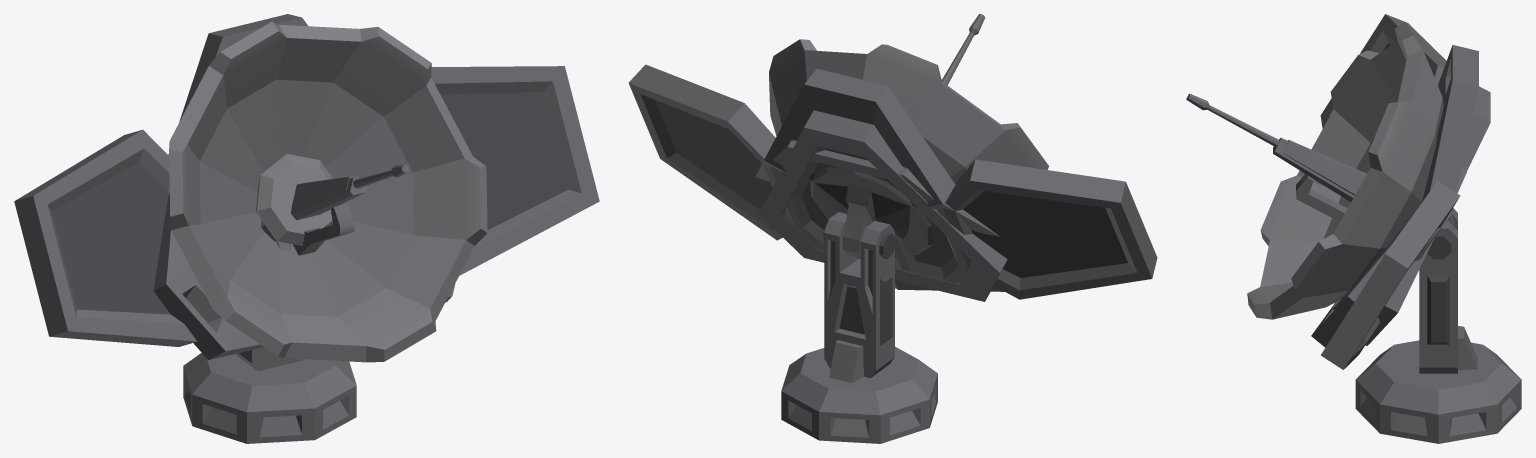
The model's file is SM_Prop_Satellite_Stand_01.glb.
3 views of the same model, side by side, from view 1: azimuth 30°, elevation 25°; view 2: azimuth 150°, elevation 25°; view 3: azimuth 270°, elevation 25° (orthographic). The views are drawn at different scales.
Parts seen in each view (by area): view 1: SM_Prop_Satellite_01, SM_Prop_Satellite_03, SM_Prop_Satellite_Stand_01, SM_Prop_Satellite_02, SM_Prop_Satellite_04; view 2: SM_Prop_Satellite_03, SM_Prop_Satellite_Stand_01, SM_Prop_Satellite_01, SM_Prop_Satellite_04, SM_Prop_Satellite_02; view 3: SM_Prop_Satellite_01, SM_Prop_Satellite_Stand_01, SM_Prop_Satellite_03, SM_Prop_Satellite_02, SM_Prop_Satellite_04.
Part boxes in pixels (bbox=[...]): SM_Prop_Satellite_01: bbox=[169, 21, 487, 362]; SM_Prop_Satellite_03: bbox=[14, 66, 599, 346]; SM_Prop_Satellite_Stand_01: bbox=[183, 347, 356, 443]; SM_Prop_Satellite_02: bbox=[153, 14, 455, 360]; SM_Prop_Satellite_04: bbox=[261, 177, 366, 241]; SM_Prop_Satellite_03: bbox=[628, 64, 1157, 299]; SM_Prop_Satellite_Stand_01: bbox=[781, 212, 937, 443]; SM_Prop_Satellite_01: bbox=[769, 14, 1048, 254]; SM_Prop_Satellite_04: bbox=[759, 110, 1007, 301]; SM_Prop_Satellite_02: bbox=[756, 69, 1004, 291]; SM_Prop_Satellite_01: bbox=[1186, 22, 1454, 319]; SM_Prop_Satellite_Stand_01: bbox=[1355, 208, 1521, 443]; SM_Prop_Satellite_03: bbox=[1296, 14, 1466, 369]; SM_Prop_Satellite_02: bbox=[1283, 45, 1478, 347]; SM_Prop_Satellite_04: bbox=[1273, 86, 1490, 345].
Size of the model in its own units: 3.01 by 2.1 by 1.73.
1 material, 1 textured.
